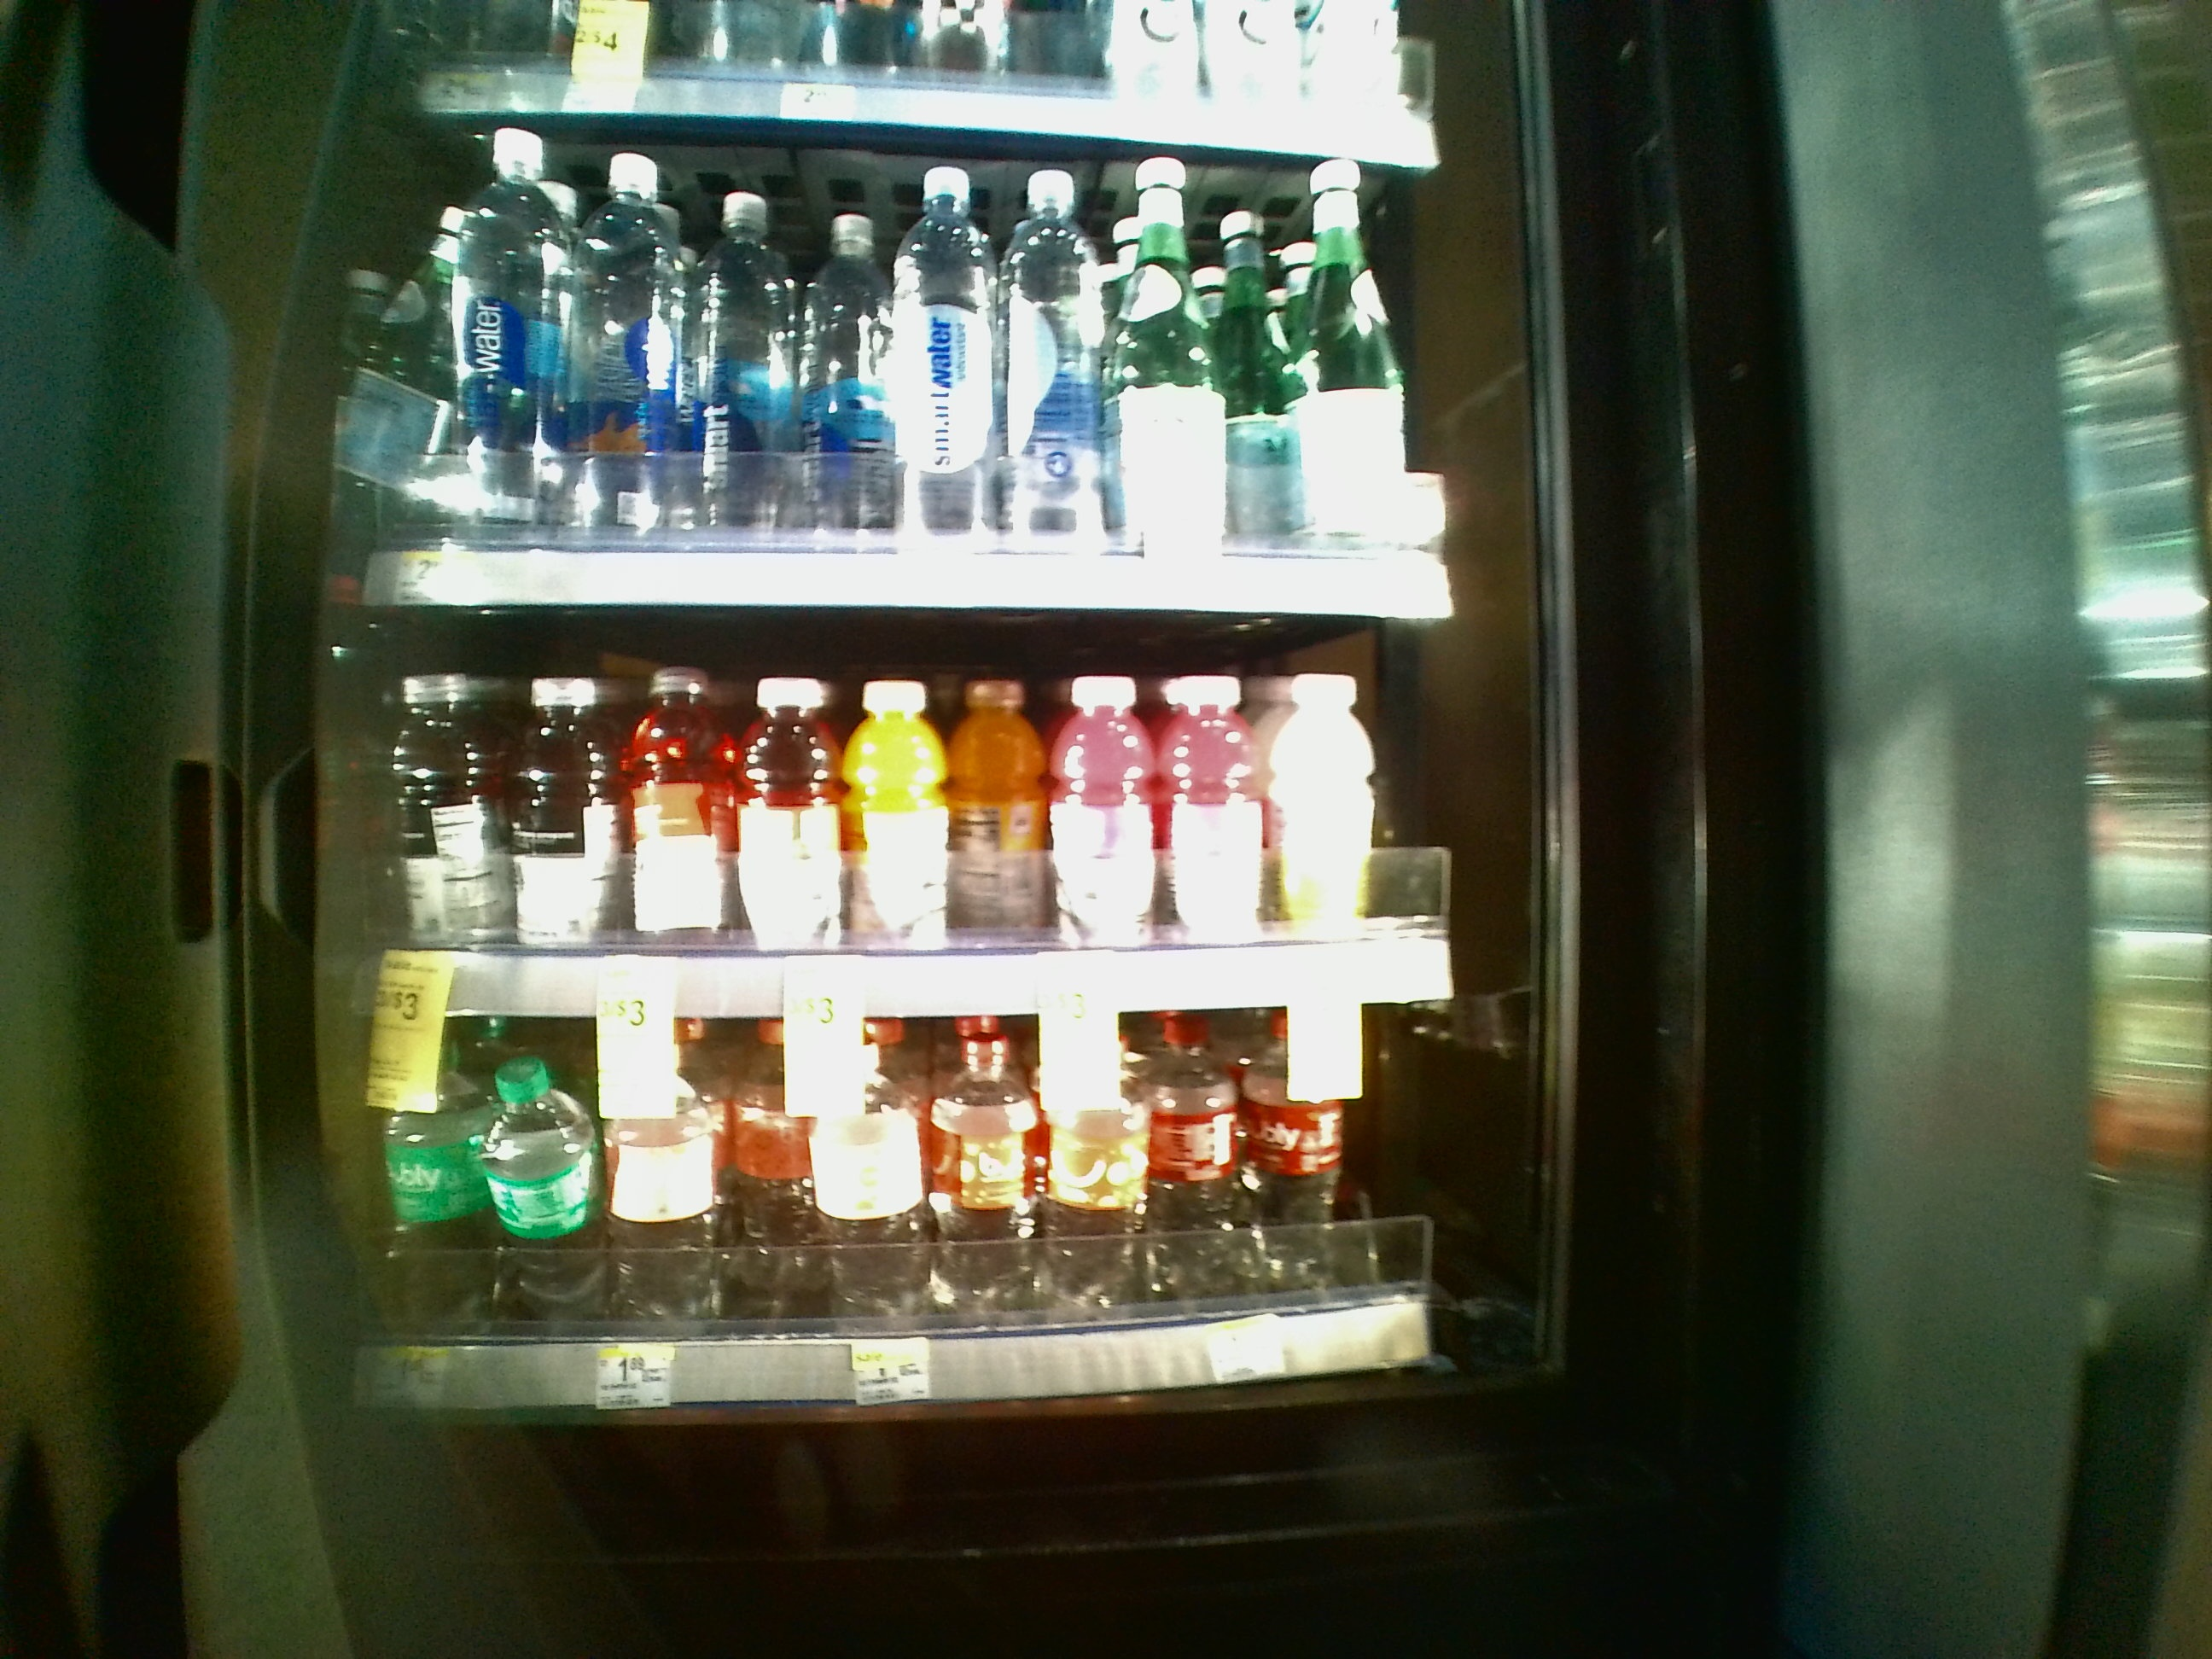shelf: (347, 118, 1501, 619), (334, 1018, 1508, 1431), (331, 612, 1501, 1018)
